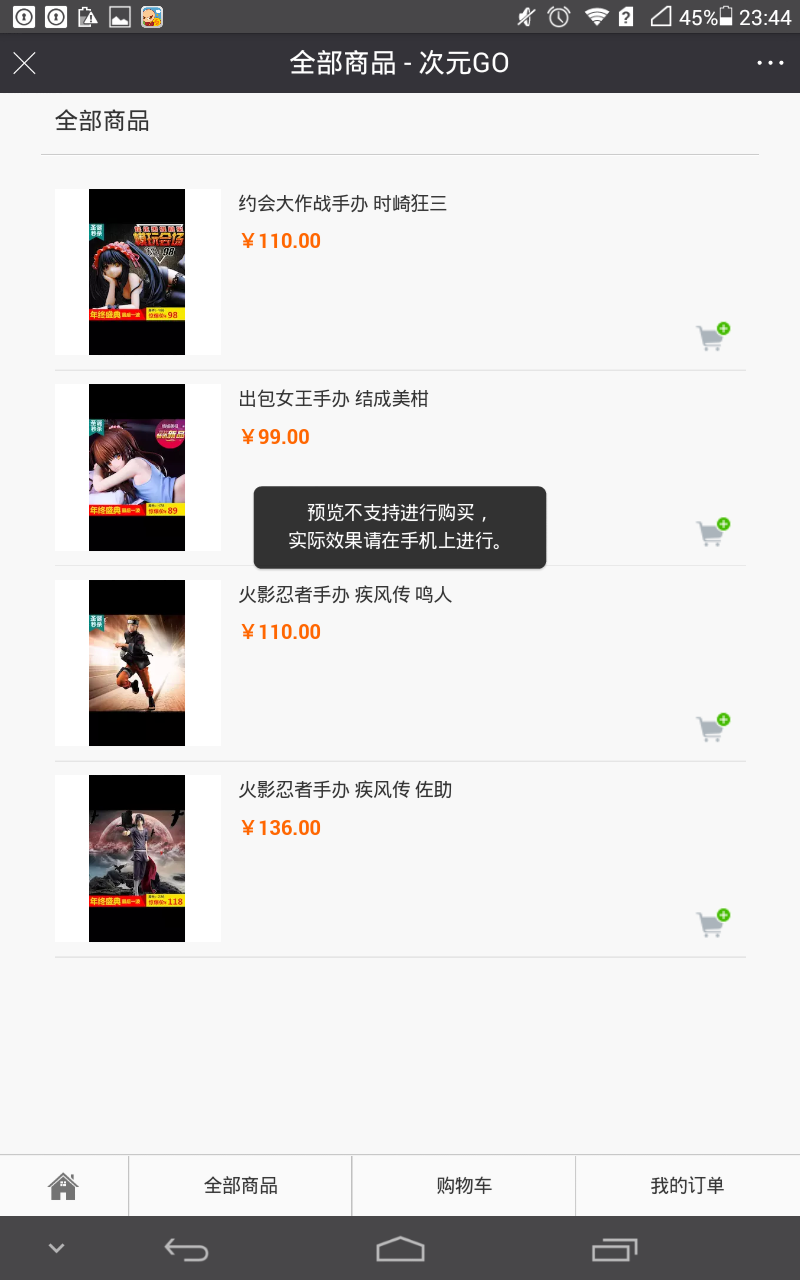alert: (240, 478, 564, 576)
nav: (30, 1155, 800, 1219)
